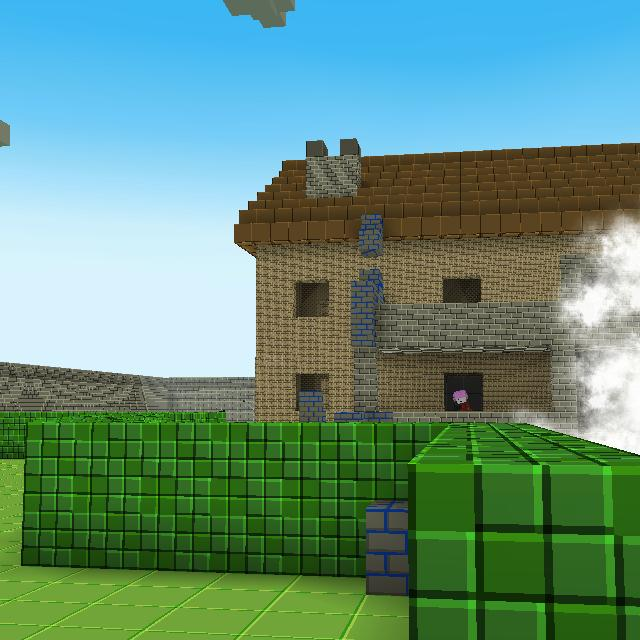enemy: (452, 389, 473, 411)
